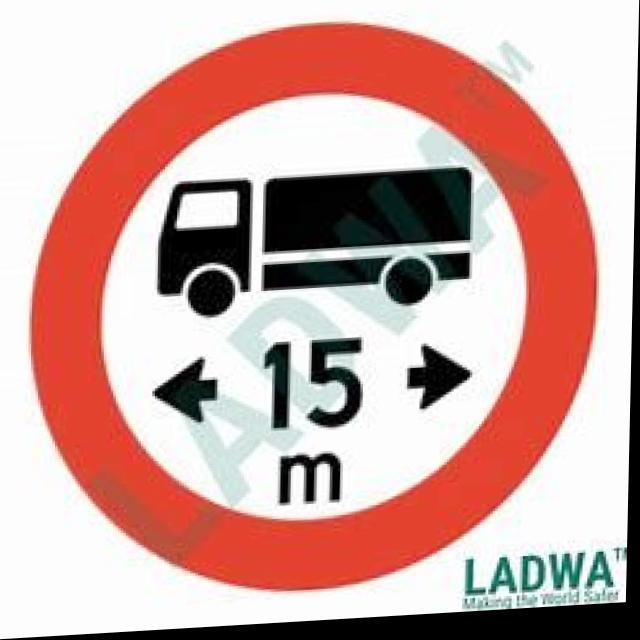LENGTH_LIMIT: (24, 14, 603, 606)
